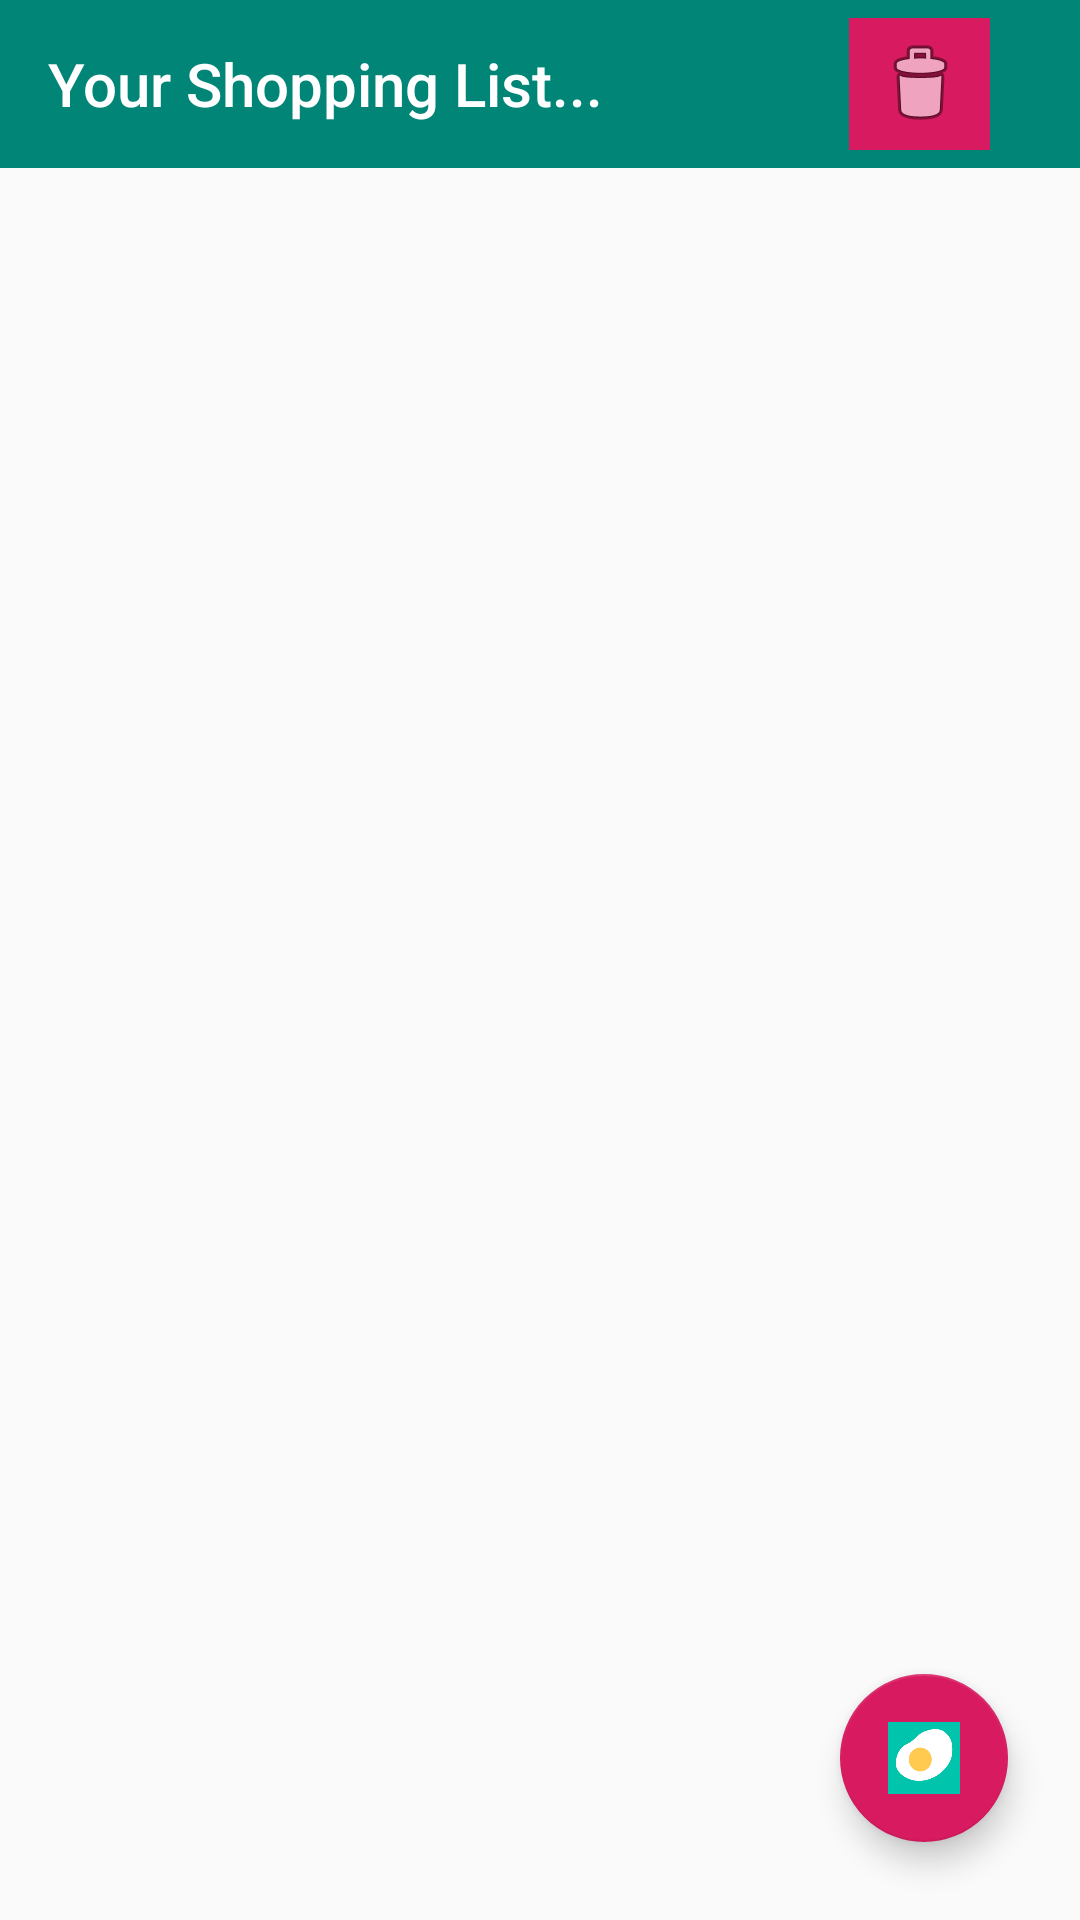

Where to tap for icons on this 1080px x 1920px app screen, as point (x, y):
delete: point (919, 84)
tamagoicon: point (924, 1758)
